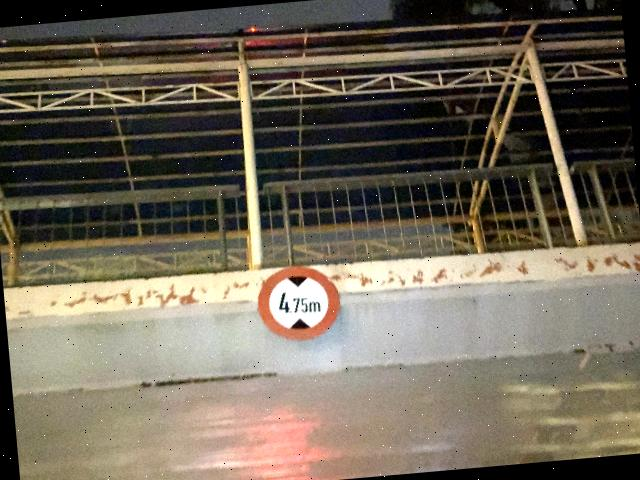han-che-chieu-cao: (253, 260, 342, 344)
